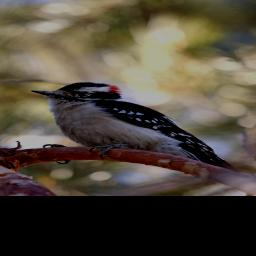Woodpecker: (30, 83, 235, 173)
